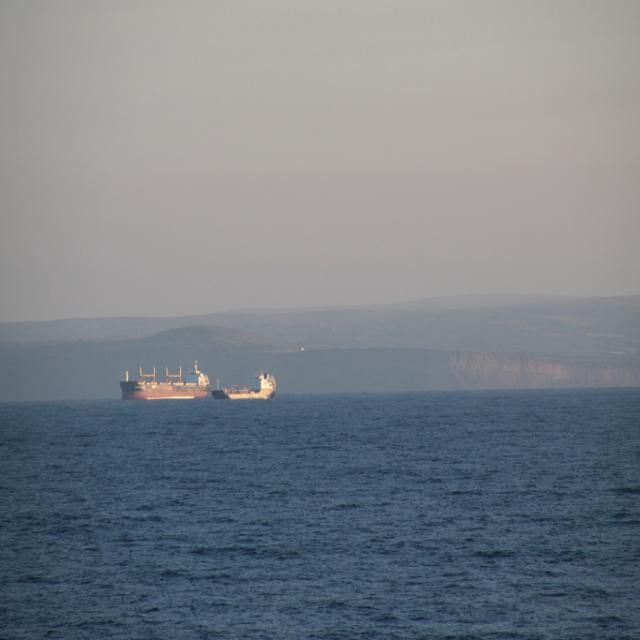Boat: (115, 352, 222, 412), (223, 368, 278, 405), (211, 378, 227, 403)
